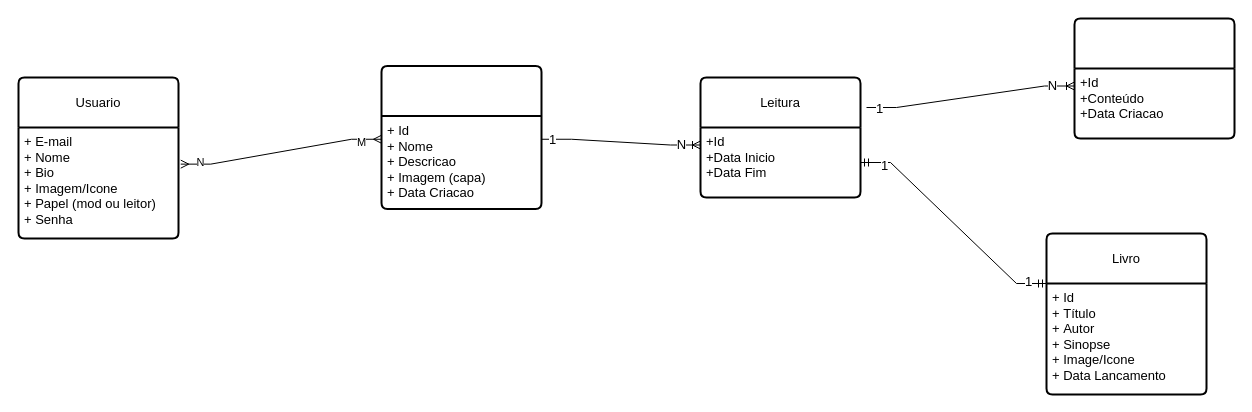
This 1252x412 diagram has some shape labels left out. The shapes that lost their labels are listed below. From the top down, each one's box as (x1, y1, x2, y2) in pixels, then its label:
(1073, 17, 1235, 139): Postagem
(380, 64, 542, 210): Clube
